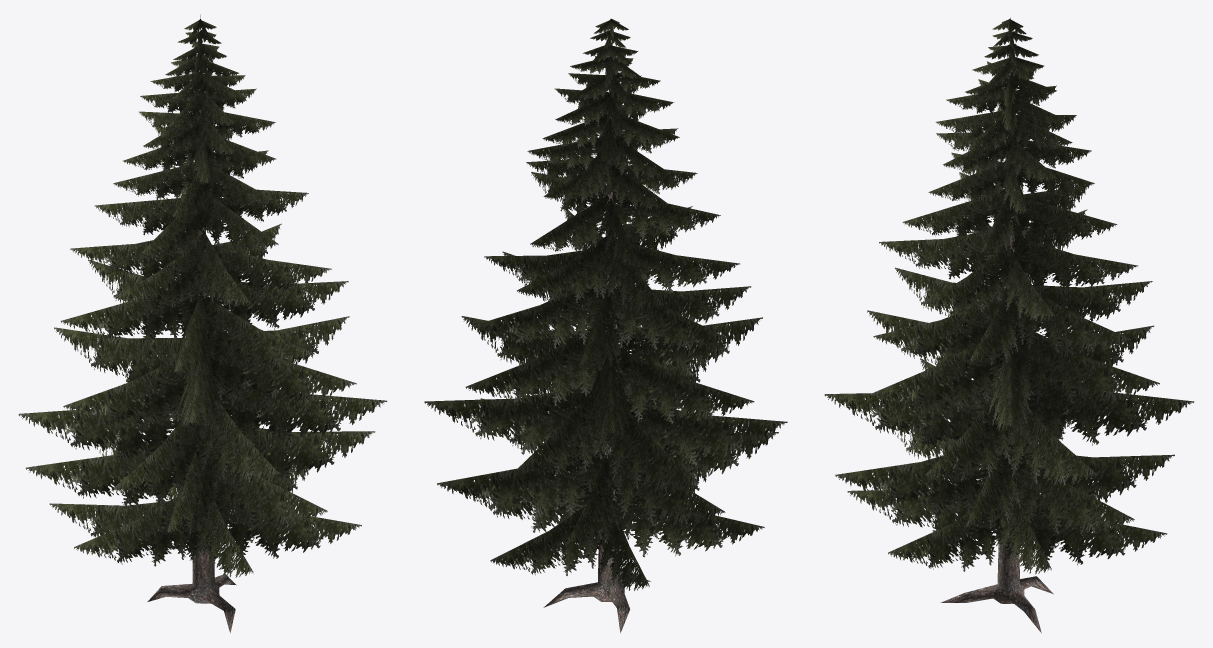
File: Spruce.obj
The picture shows the model from 3 angles, left to right: view 1: azimuth 30°, elevation 25°; view 2: azimuth 150°, elevation 25°; view 3: azimuth 270°, elevation 25°; orthographic projection.
Visible parts, largest first — view 1: Spruce; view 2: Spruce; view 3: Spruce.
Boxes of the visible parts, left/top/right/bottom form: Spruce: left=18, top=14, right=387, bottom=633; Spruce: left=424, top=18, right=787, bottom=633; Spruce: left=824, top=17, right=1194, bottom=633.
Bounding box in the file's own units: 6.15 × 11.53 × 6.64.
